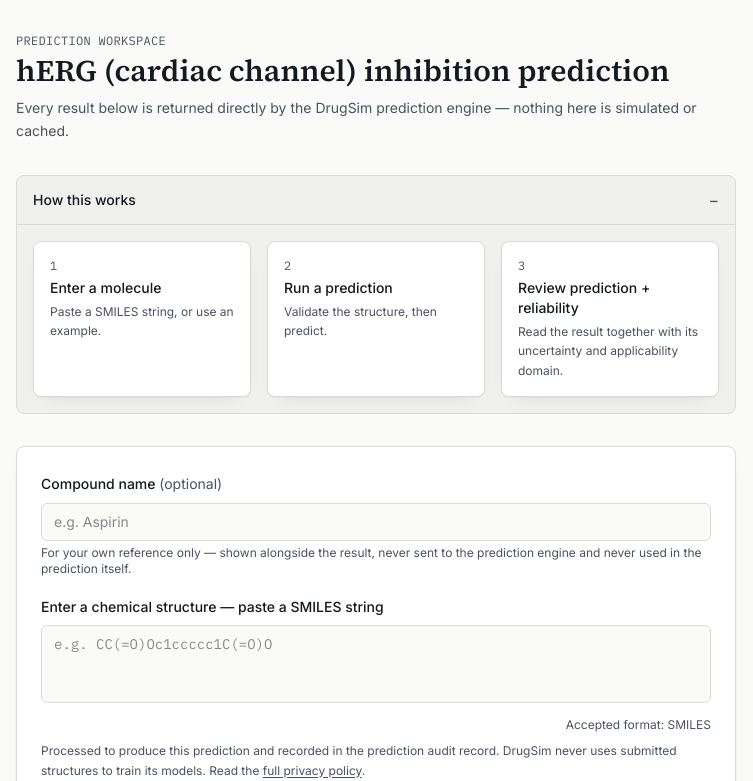
it: PredictPage › renders an out-of-domain prediction as a successful result, not an error
In the text box labelled "Enter a chemical structure — paste a SMILES string": (376, 664) [41,625,711,703], type "CC(=O)Oc1ccccc1C(=O)O"
(page scrolled)
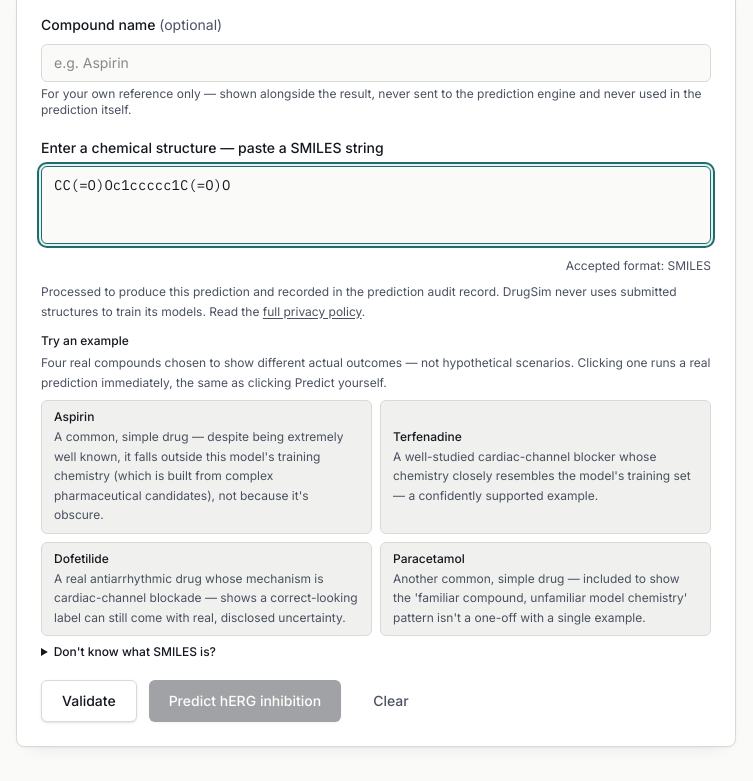
Click the button "Validate": (89, 701) [41,680,137,722]
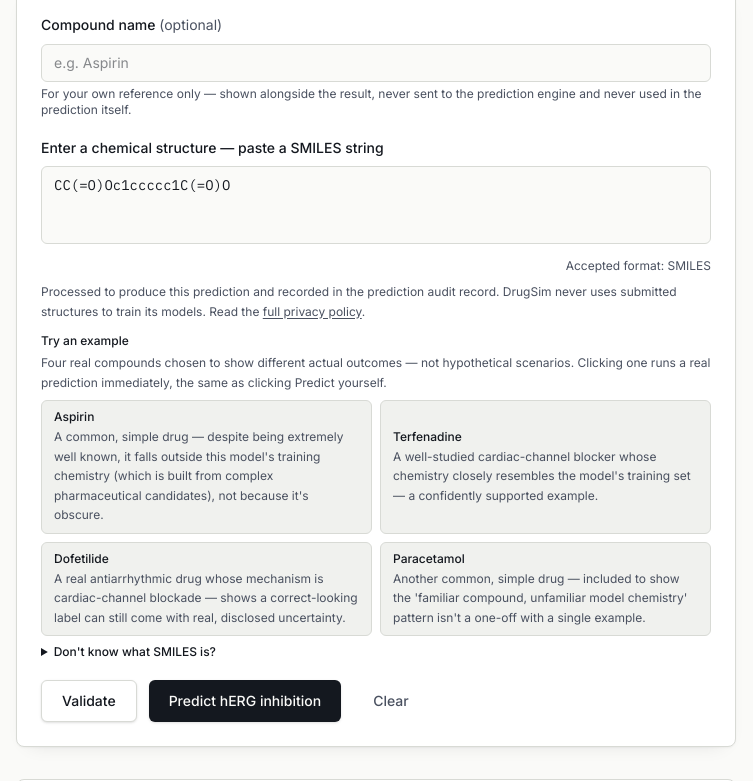
Click the button "Predict hERG inhibition": (245, 701) [149,680,341,722]
(page scrolled)
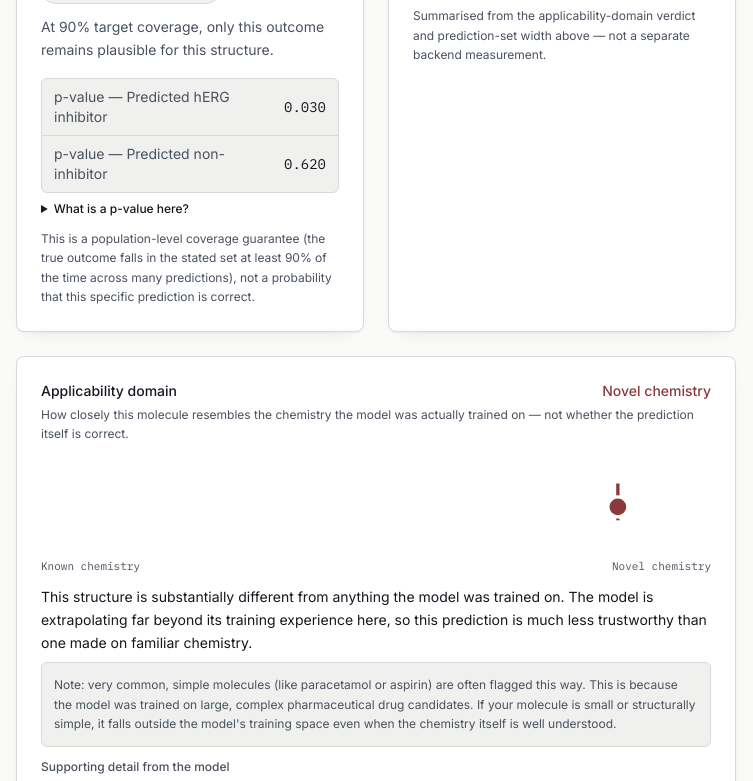
Expected: the 1st text "Novel chemistry" is shown, [602,381,711,401]
